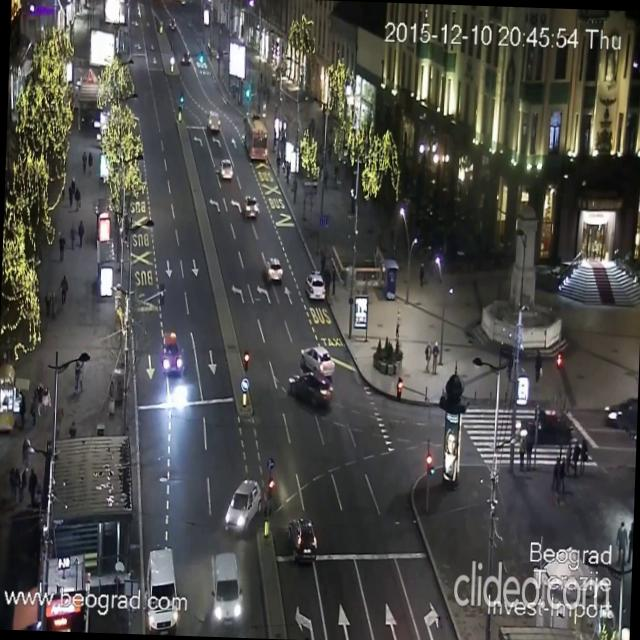bus: (241, 110, 268, 160)
car: (145, 548, 181, 635), (208, 550, 244, 624), (224, 477, 262, 535), (514, 409, 569, 444), (286, 368, 329, 406), (286, 516, 318, 564), (600, 390, 638, 424), (158, 331, 185, 376), (300, 344, 336, 374), (305, 267, 324, 297), (244, 194, 260, 218), (219, 158, 233, 180), (207, 110, 220, 133), (270, 262, 284, 276), (180, 50, 192, 66)
